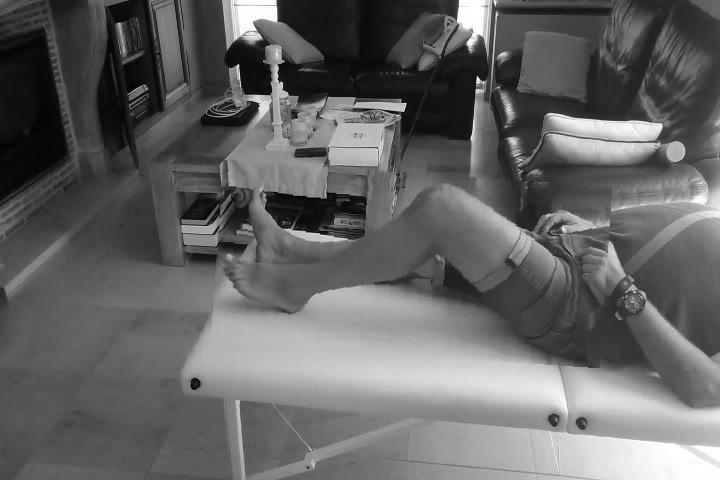lowerbody: (215, 168, 610, 362)
